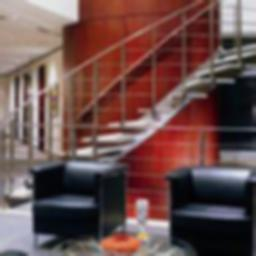Escaleras: (5, 0, 256, 158)
